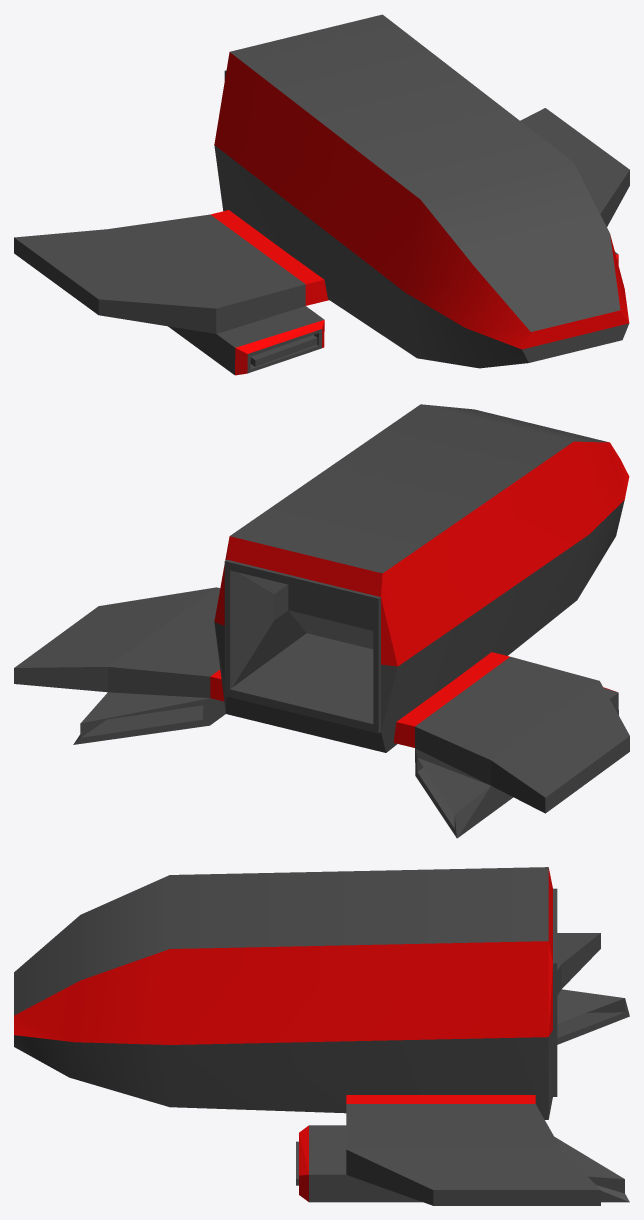
Rendered from minelayer.FBX.
The picture shows the model from 3 angles, top to bottom: view 1: azimuth 30°, elevation 25°; view 2: azimuth 150°, elevation 25°; view 3: azimuth 270°, elevation 25°; orthographic projection.
Parts seen in each view (by area): view 1: chassis, red; view 2: chassis, red; view 3: chassis, red.
Part boxes in pixels (x1,y1,x2,y2): chassis: (14, 14, 629, 374); red: (210, 52, 629, 375); chassis: (14, 404, 629, 838); red: (210, 441, 629, 747); chassis: (14, 867, 629, 1205); red: (14, 868, 552, 1201).
Bounding box in the file's own units: 1833 × 682 × 1855.
